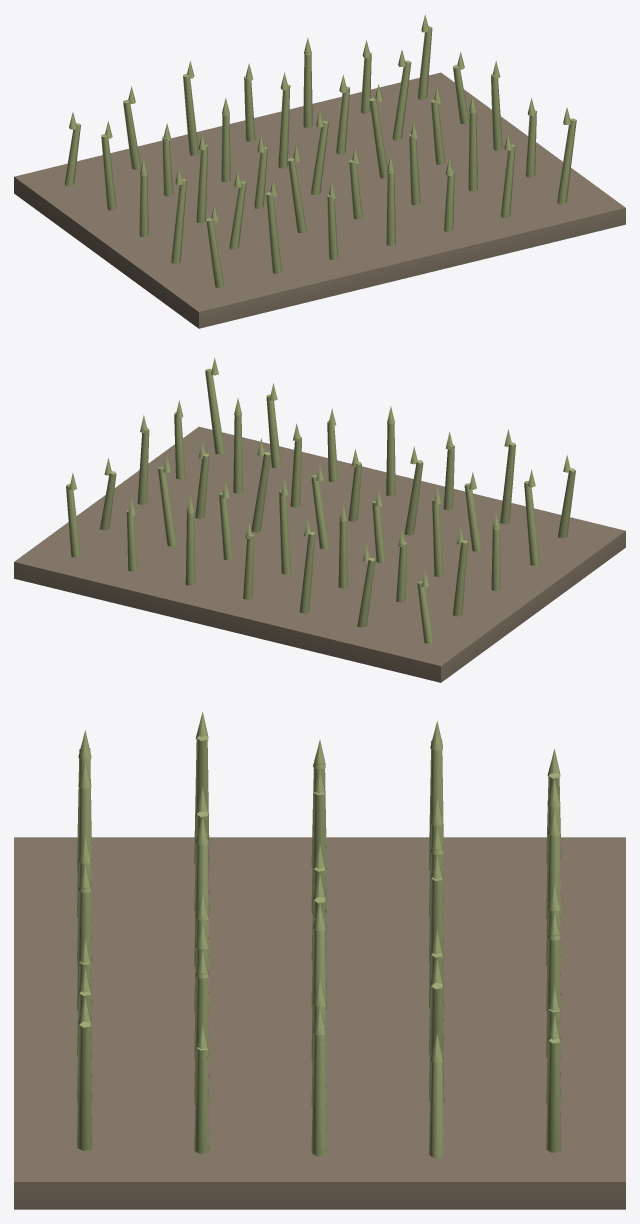
The model's file is corn-plot.glb.
3 renders of one model, top to bottom at view 1: azimuth 30°, elevation 25°; view 2: azimuth 150°, elevation 25°; view 3: azimuth 270°, elevation 25°, orthographic. The views are drawn at different scales.
Parts seen in each view (by area): view 1: corn-plot; view 2: corn-plot; view 3: corn-plot.
Part boxes in pixels (x1,y1,x2,y2): corn-plot: (14,15,625,328); corn-plot: (14,358,625,682); corn-plot: (14,712,625,1209).
Size of the model in its own units: 8 by 1.99 by 6.
